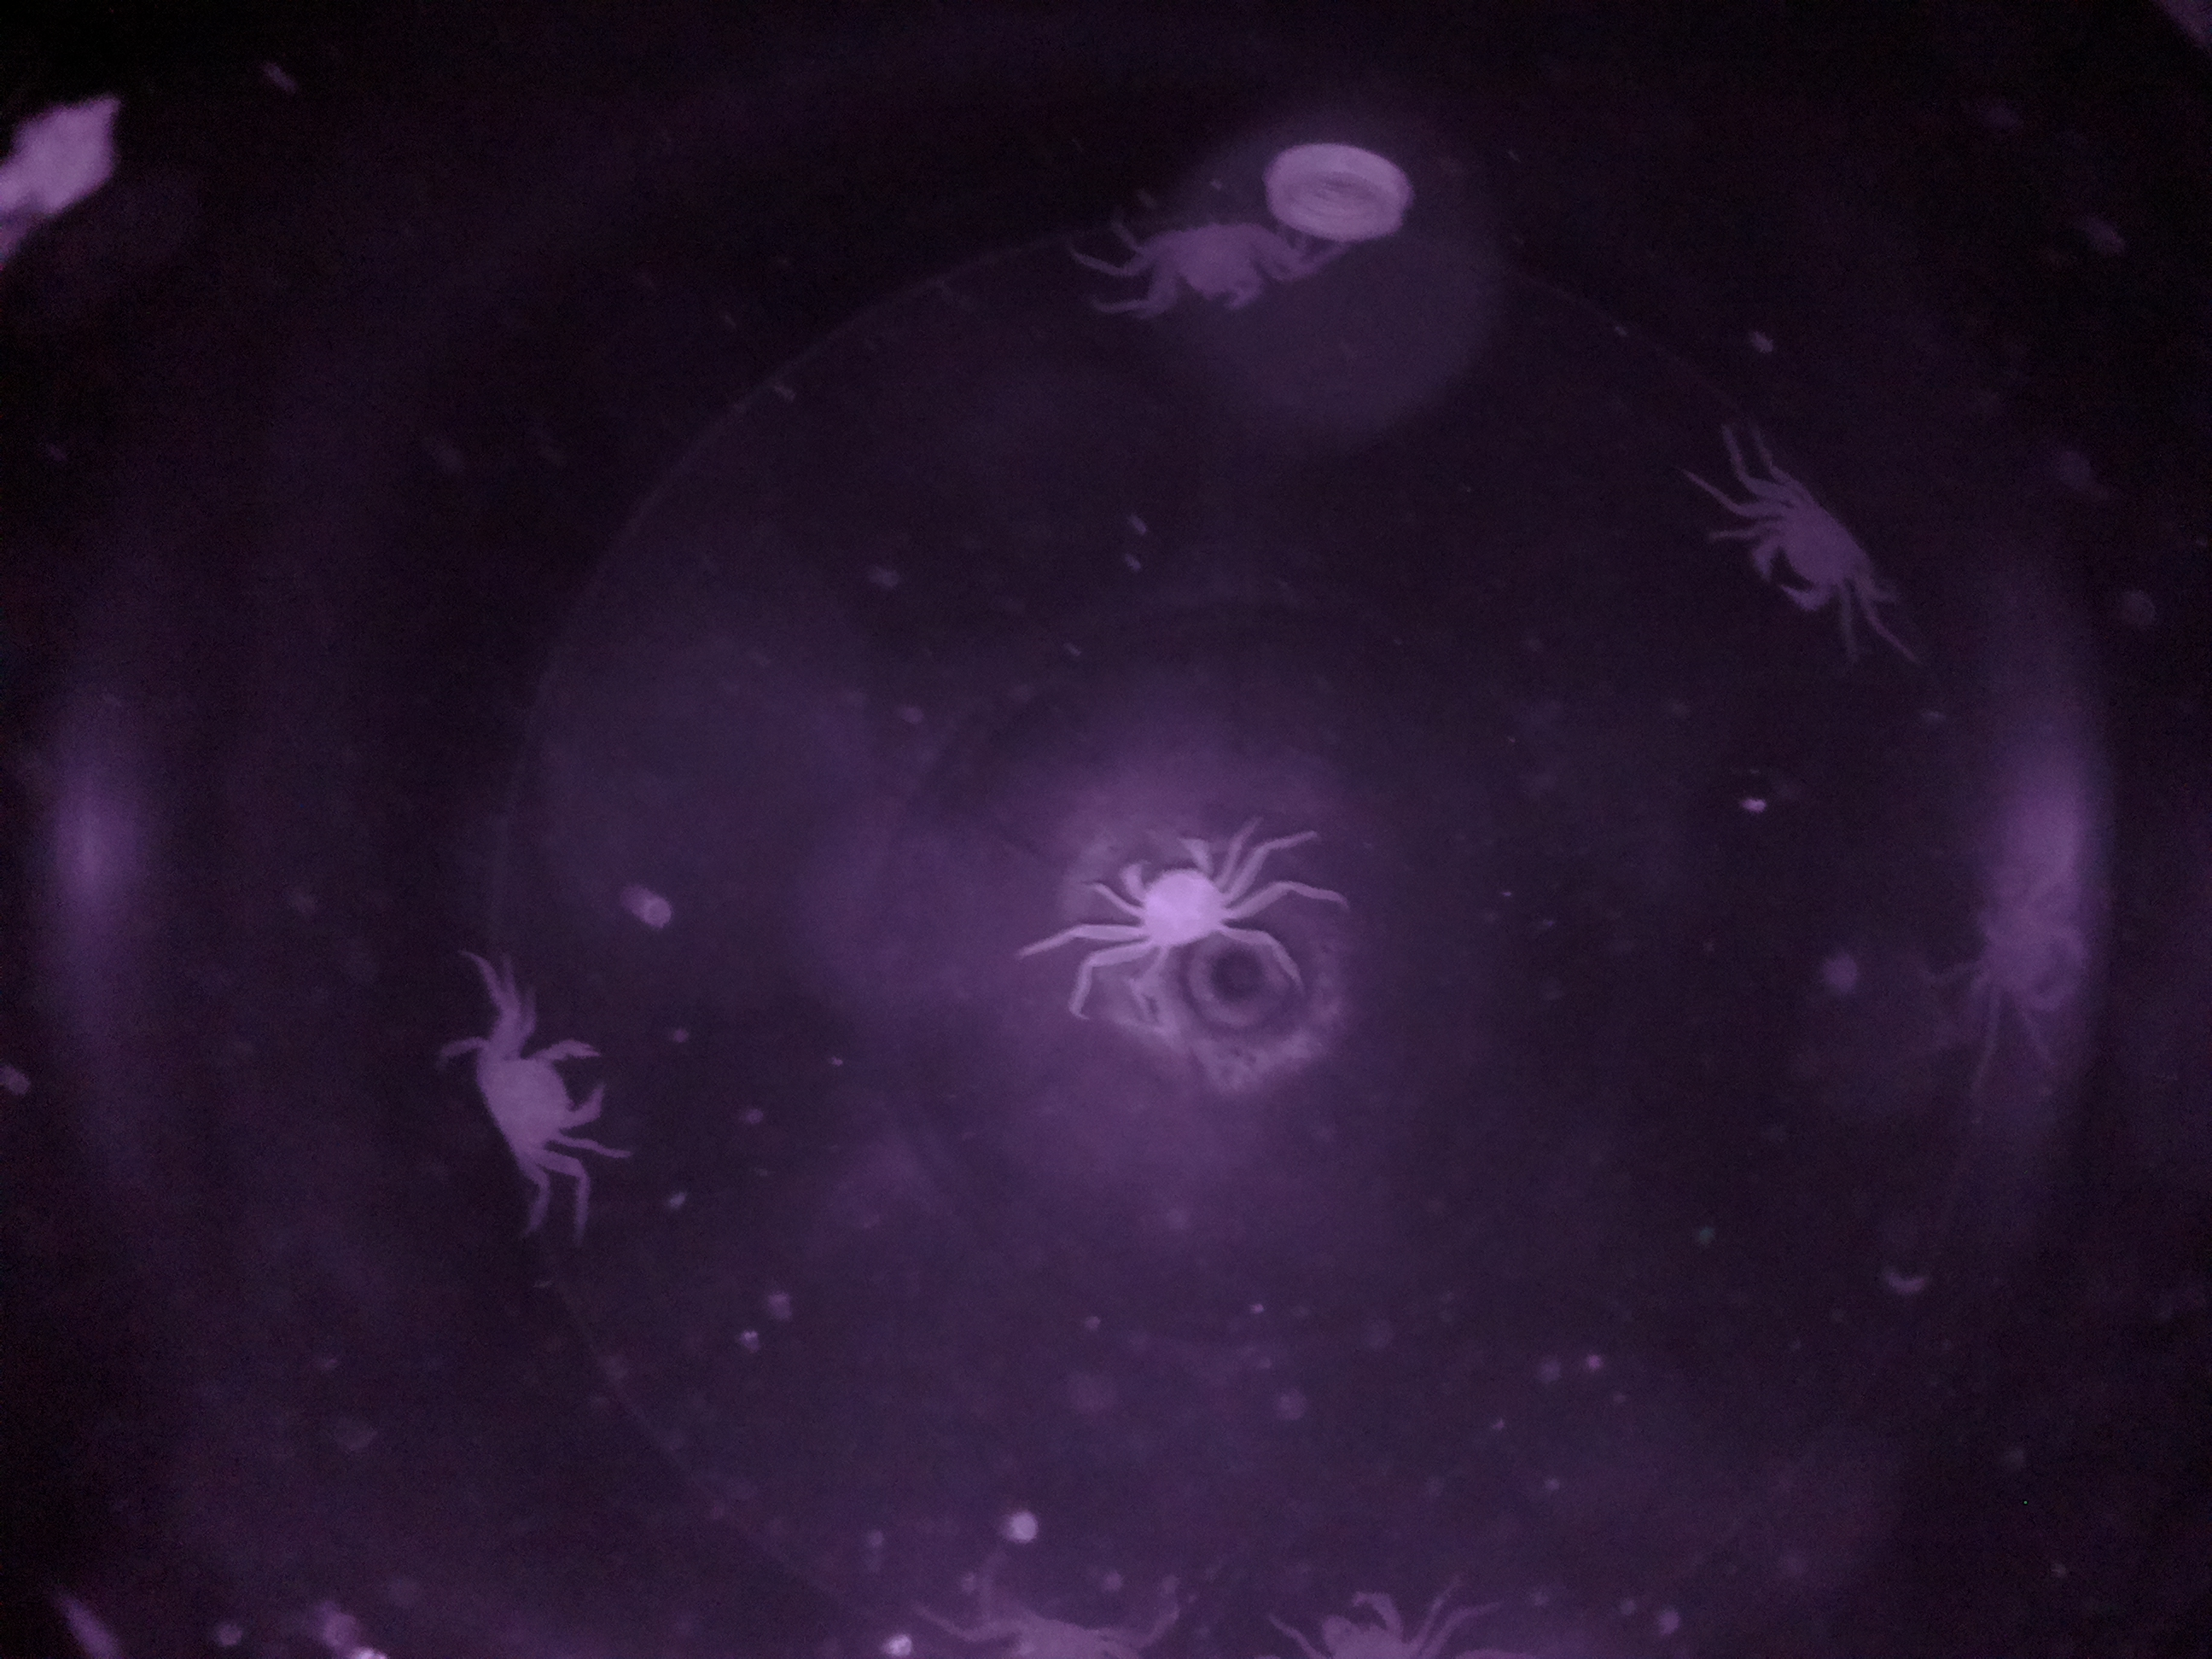Crab: (1069, 814, 1270, 985), (451, 1018, 631, 1192), (1726, 472, 1897, 627), (1113, 202, 1308, 336)
